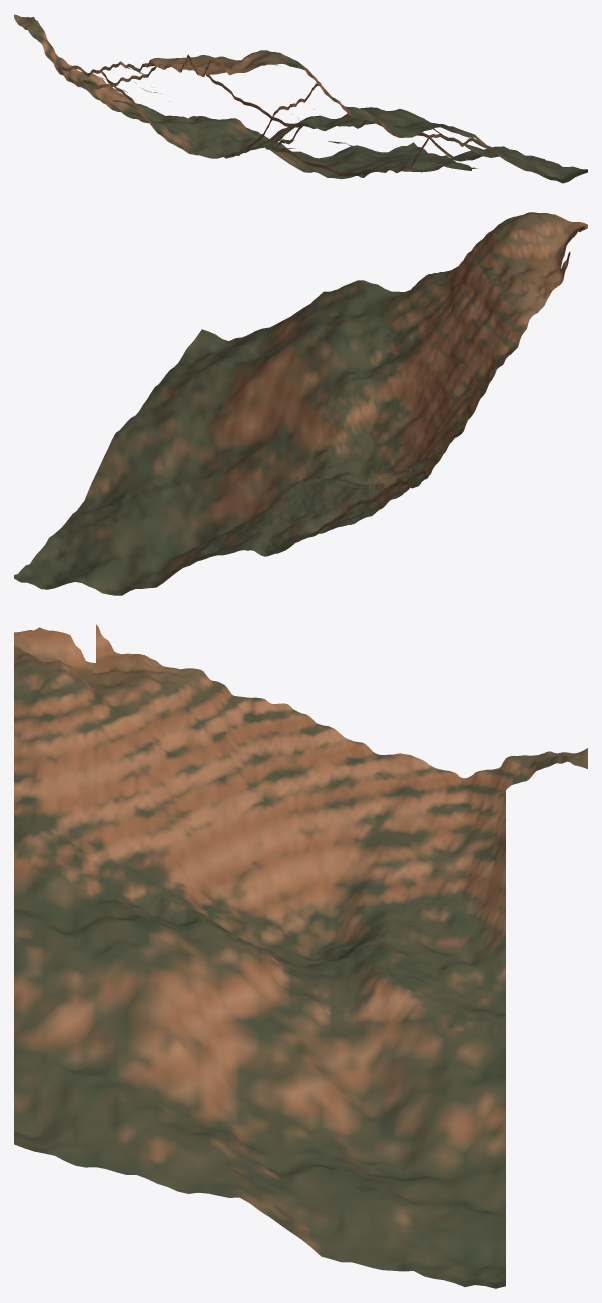
Rendered from terrain-029.glb.
3 views of the same model, one above another, from view 1: azimuth 30°, elevation 25°; view 2: azimuth 150°, elevation 25°; view 3: azimuth 270°, elevation 25° (orthographic). The views are drawn at different scales.
Parts seen in each view (by area): view 1: terrain-029; view 2: terrain-029; view 3: terrain-029.
Boxes of the visible parts, <box> form: terrain-029: <box>14,14,587,183</box>; terrain-029: <box>14,212,587,595</box>; terrain-029: <box>14,624,587,1288</box>.
Size of the model in its own units: 472 by 359 by 448.
